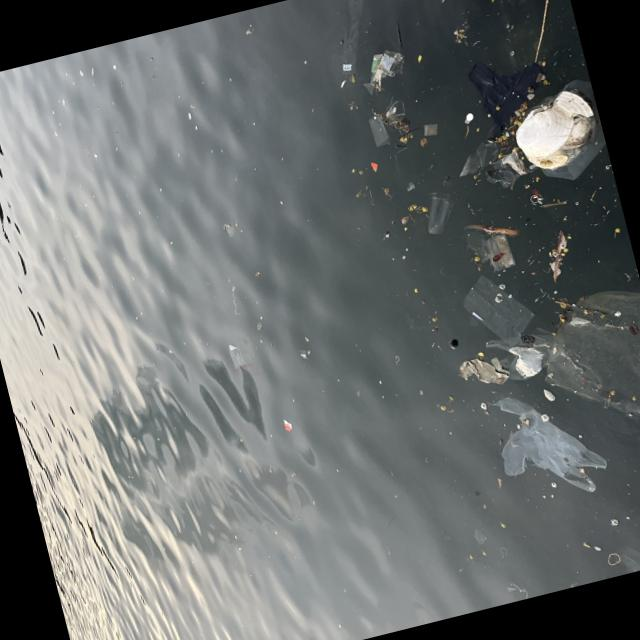foam: (509, 85, 601, 162)
plastic bag: (488, 397, 606, 494)
